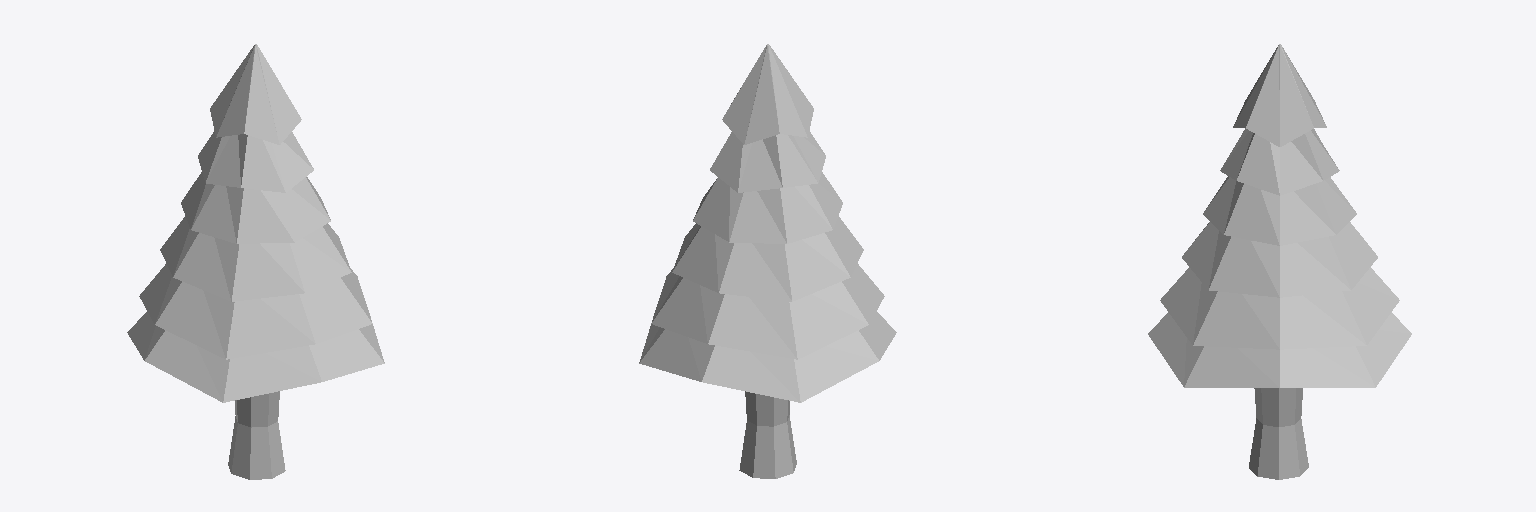
The model's file is firboom.obj.
3 renders of one model, left to right at view 1: azimuth 30°, elevation 25°; view 2: azimuth 150°, elevation 25°; view 3: azimuth 270°, elevation 25°, orthographic.
Parts seen in each view (by area): view 1: Cylinder; view 2: Cylinder; view 3: Cylinder.
Part boxes in pixels (x1,y1,x2,y2): Cylinder: (127,44,384,479); Cylinder: (639,44,896,478); Cylinder: (1148,44,1411,479).
Bounding box in the file's own units: 2.94 × 5.33 × 3.02.